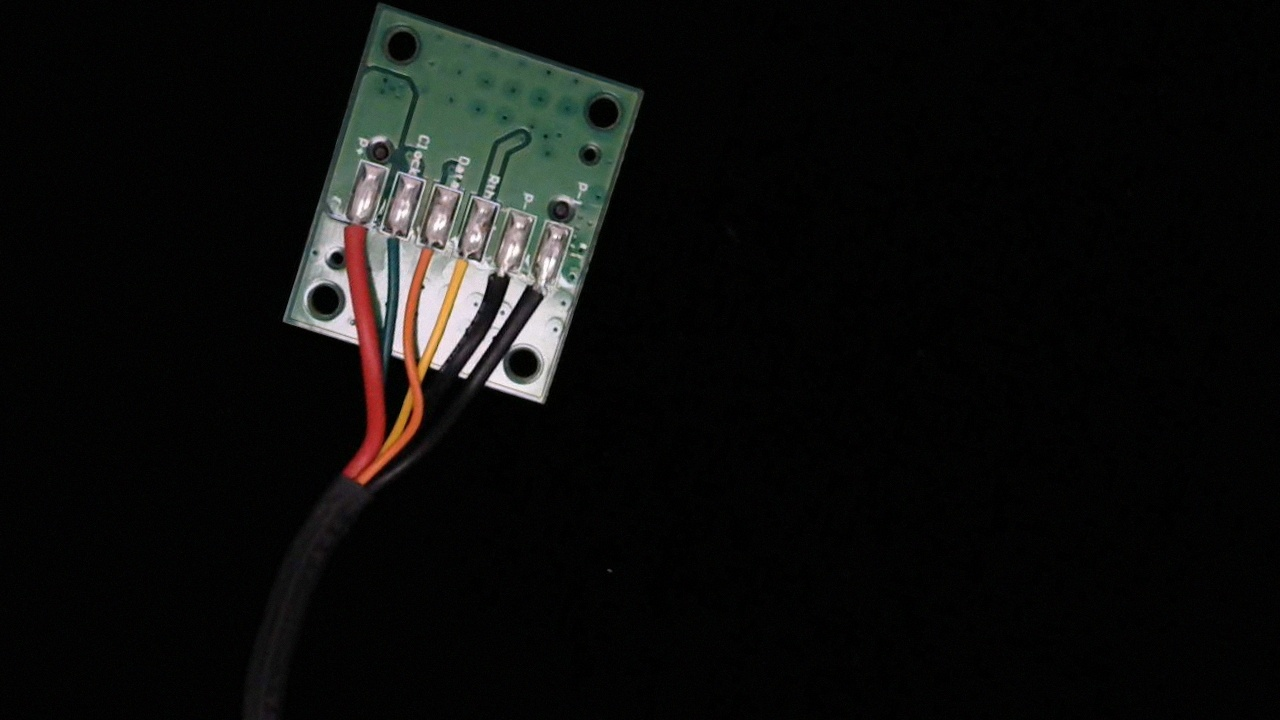Black: (478, 251, 521, 313)
Black1: (514, 264, 559, 326)
Green: (369, 213, 414, 272)
Orange: (404, 227, 450, 286)
Red: (333, 201, 374, 260)
Yellow: (438, 240, 486, 304)
